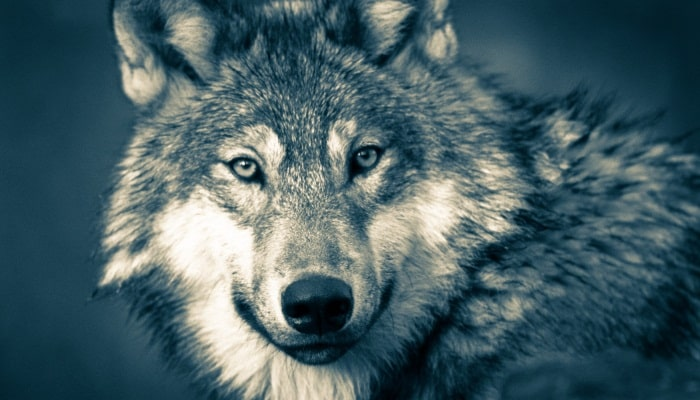Lobo: (102, 11, 623, 360)
